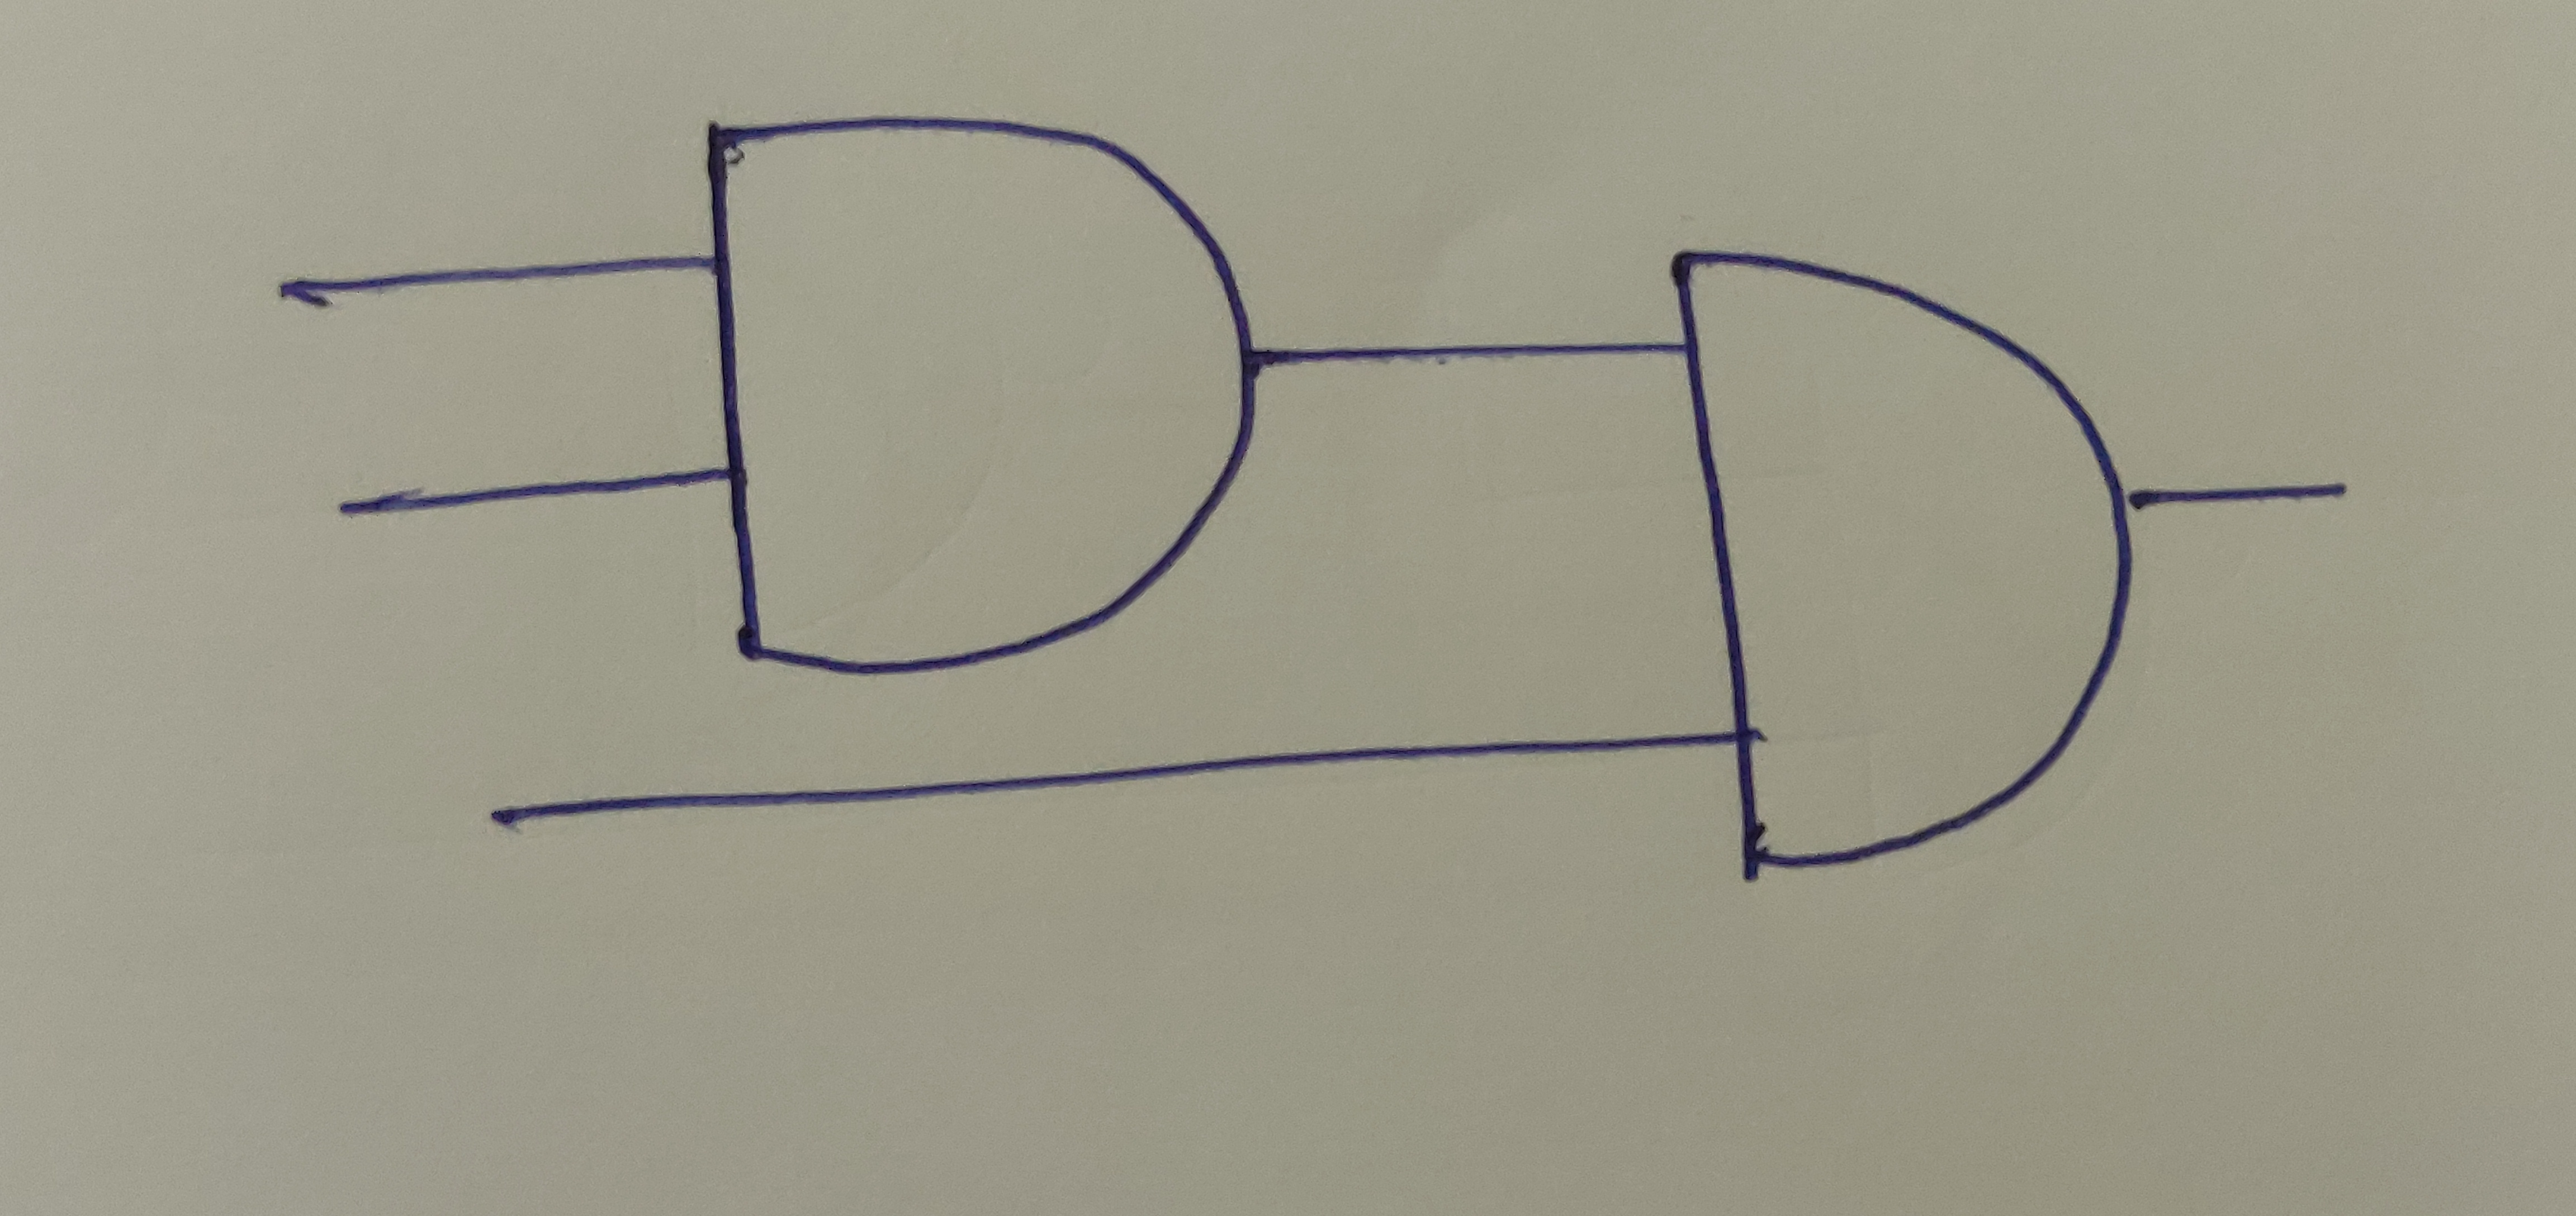and: (705, 113, 1262, 679), (1663, 243, 2137, 869)
